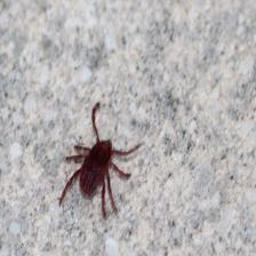Rhipicephalus sanguineus: (57, 104, 143, 221)
